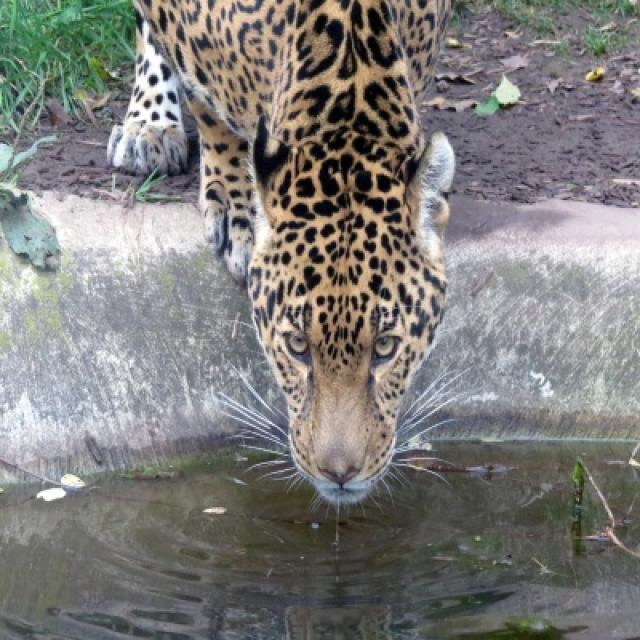Jaguar: (109, 0, 456, 512)
